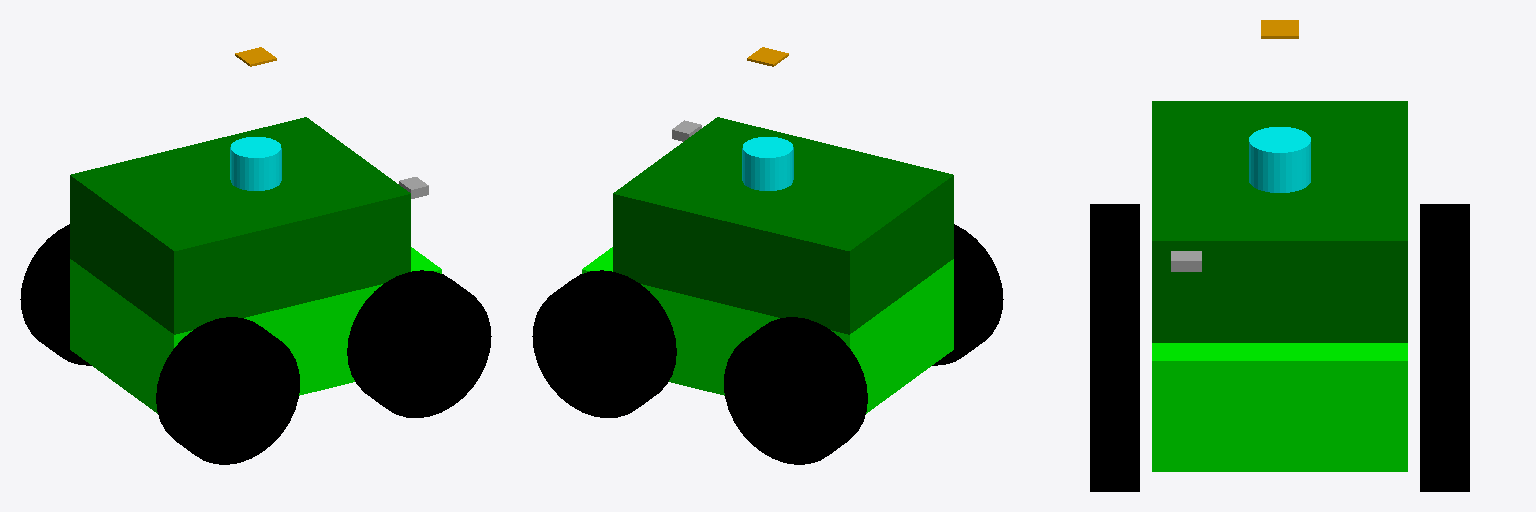
URDF robot description (sherpa):
<?xml version="1.0" encoding="utf-8"?>
<!-- =================================================================================== -->
<!-- |    This document was autogenerated by xacro from [local-path]/catkin_ws/src/sherpa_common/sherpa_description/urdf/sherpa_standalone.urdf.xacro | -->
<!-- |    EDITING THIS FILE BY HAND IS NOT RECOMMENDED                                 | -->
<!-- =================================================================================== -->
<robot name="sherpa">
  <!-- Materials -->
  <material name="black">
    <color rgba="0 0 0 255"/>
  </material>
  <material name="dark_grey">
    <color rgba="0 0 0 155 255"/>
  </material>
  <material name="blue">
    <color rgba="0 0 200 255"/>
  </material>
  <material name="green">
    <color rgba="0 200 0 255"/>
  </material>
  <material name="grey">
    <color rgba="50 50 50 255"/>
  </material>
  <material name="orange">
    <color rgba="255 108 10 255"/>
  </material>
  <material name="brown">
    <color rgba="222 207 195 255"/>
  </material>
  <material name="red">
    <color rgba="200 0 0 255"/>
  </material>
  <material name="white">
    <color rgba="255 255 255 255"/>
  </material>
  <link name="base">
    <collision>
      <origin rpy="0 0 0" xyz="0 0 0"/>
      <geometry>
        <box size="0.605 0.41 0.197"/>
      </geometry>
    </collision>
    <visual>
      <origin rpy="0 0 0" xyz="0 0 0"/>
      <geometry>
        <box size="0.605 0.41 0.197"/>
      </geometry>
      <material name="green"/>
    </visual>
  </link>
  <link name="top">
    <collision>
      <origin rpy="0 0 0" xyz="-0.07 0 0"/>
      <geometry>
        <box size="0.535 0.41 0.18"/>
      </geometry>
    </collision>
    <visual>
      <origin rpy="0 0 0" xyz="0 0 0"/>
      <geometry>
        <box size="0.535 0.41 0.18"/>
      </geometry>
      <material name="green2">
        <color rgba="0 0.5 0 0.8"/>
      </material>
    </visual>
  </link>
  <gazebo reference="top">
    <material>Gazebo/Green</material>
  </gazebo>
  <gazebo reference="base">
    <material>Gazebo/Green</material>
  </gazebo>
  <joint name="top_to_base_link" type="fixed">
    <parent link="base"/>
    <child link="top"/>
    <origin rpy="0 0 0" xyz="-0.035 0.0 0.1885"/>
  </joint>
  <!-- Fixed joint to add dummy inertia link -->
  <joint name="base_to_base_inertia" type="fixed">
    <parent link="base"/>
    <child link="base_inertia"/>
    <origin rpy="0 0 0" xyz="0 0 0"/>
  </joint>
  <!-- Dummy inertia link, because KDL cannot have inertia on the base link -->
  <link name="base_inertia">
    <inertial>
      <origin rpy="0 0 0" xyz="0 0 0"/>
      <mass value="40"/>
      <inertia ixx="0.689696666667" ixy="0" ixz="0" iyy="1.34944666667" iyz="0" izz="1.34944666667"/>
    </inertial>
  </link>
  <joint name="LF_WHEEL" type="fixed">
    <parent link="base"/>
    <child link="LF_WHEEL"/>
    <origin rpy="-1.57079632679 0 0" xyz="0.2159 0.265 -0.0185"/>
    <axis rpy="0 0 0" xyz="0 0 1"/>
    <dynamics damping="1.0" friction="0.0"/>
    <limit effort="1" velocity="1"/>
    <joint_properties damping="0.2" friction="0.2"/>
  </joint>
  <link name="LF_WHEEL">
    <collision>
      <origin rpy="0 0 0" xyz="0 0 0"/>
      <geometry>
        <cylinder length="0.008" radius="0.14"/>
      </geometry>
    </collision>
    <visual>
      <origin rpy="0 0 0" xyz="0 0 0"/>
      <geometry>
        <cylinder length="0.08" radius="0.14"/>
      </geometry>
      <material name="black"/>
    </visual>
    <inertial>
      <origin rpy="0 0 0" xyz="0 0 0"/>
      <mass value="5"/>
      <inertia ixx="0.0271666666667" ixy="0" ixz="0" iyy="0.0271666666667" iyz="0" izz="0.049"/>
    </inertial>
  </link>
  <gazebo reference="LF_WHEEL">
    <mu1 value="0.5"/>
    <mu2 value="0.5"/>
    <fdir1 value="1 0 0"/>
    <kp>10000000.0</kp>
    <kd>1.0</kd>
    <minDepth>0.005</minDepth>
    <maxVel>100.0</maxVel>
    <material>Gazebo/Black</material>
  </gazebo>
  <joint name="RF_WHEEL" type="fixed">
    <parent link="base"/>
    <child link="RF_WHEEL"/>
    <origin rpy="-1.57079632679 0 0" xyz="0.2159 -0.265 -0.0185"/>
    <axis rpy="0 0 0" xyz="0 0 1"/>
    <dynamics damping="1.0" friction="0.0"/>
    <limit effort="1" velocity="1"/>
    <joint_properties damping="0.2" friction="0.2"/>
  </joint>
  <link name="RF_WHEEL">
    <collision>
      <origin rpy="0 0 0" xyz="0 0 0"/>
      <geometry>
        <cylinder length="0.008" radius="0.14"/>
      </geometry>
    </collision>
    <visual>
      <origin rpy="0 0 0" xyz="0 0 0"/>
      <geometry>
        <cylinder length="0.08" radius="0.14"/>
      </geometry>
      <material name="black"/>
    </visual>
    <inertial>
      <origin rpy="0 0 0" xyz="0 0 0"/>
      <mass value="5"/>
      <inertia ixx="0.0271666666667" ixy="0" ixz="0" iyy="0.0271666666667" iyz="0" izz="0.049"/>
    </inertial>
  </link>
  <gazebo reference="RF_WHEEL">
    <mu1 value="0.5"/>
    <mu2 value="0.5"/>
    <fdir1 value="1 0 0"/>
    <kp>10000000.0</kp>
    <kd>1.0</kd>
    <minDepth>0.005</minDepth>
    <maxVel>100.0</maxVel>
    <material>Gazebo/Black</material>
  </gazebo>
  <joint name="LH_WHEEL" type="fixed">
    <parent link="base"/>
    <child link="LH_WHEEL"/>
    <origin rpy="-1.57079632679 0 0" xyz="-0.2159 0.265 -0.0185"/>
    <axis rpy="0 0 0" xyz="0 0 1"/>
    <dynamics damping="1.0" friction="0.0"/>
    <limit effort="1" velocity="1"/>
    <joint_properties damping="0.2" friction="0.2"/>
  </joint>
  <link name="LH_WHEEL">
    <collision>
      <origin rpy="0 0 0" xyz="0 0 0"/>
      <geometry>
        <cylinder length="0.008" radius="0.14"/>
      </geometry>
    </collision>
    <visual>
      <origin rpy="0 0 0" xyz="0 0 0"/>
      <geometry>
        <cylinder length="0.08" radius="0.14"/>
      </geometry>
      <material name="black"/>
    </visual>
    <inertial>
      <origin rpy="0 0 0" xyz="0 0 0"/>
      <mass value="5"/>
      <inertia ixx="0.0271666666667" ixy="0" ixz="0" iyy="0.0271666666667" iyz="0" izz="0.049"/>
    </inertial>
  </link>
  <gazebo reference="LH_WHEEL">
    <mu1 value="0.0"/>
    <mu2 value="0.0"/>
    <fdir1 value="1 0 0"/>
    <kp>10000000.0</kp>
    <kd>1.0</kd>
    <minDepth>0.005</minDepth>
    <maxVel>100.0</maxVel>
    <material>Gazebo/Black</material>
  </gazebo>
  <joint name="RH_WHEEL" type="fixed">
    <parent link="base"/>
    <child link="RH_WHEEL"/>
    <origin rpy="-1.57079632679 0 0" xyz="-0.2159 -0.265 -0.0185"/>
    <axis rpy="0 0 0" xyz="0 0 1"/>
    <dynamics damping="1.0" friction="0.0"/>
    <limit effort="1" velocity="1"/>
    <joint_properties damping="0.2" friction="0.2"/>
  </joint>
  <link name="RH_WHEEL">
    <collision>
      <origin rpy="0 0 0" xyz="0 0 0"/>
      <geometry>
        <cylinder length="0.008" radius="0.14"/>
      </geometry>
    </collision>
    <visual>
      <origin rpy="0 0 0" xyz="0 0 0"/>
      <geometry>
        <cylinder length="0.08" radius="0.14"/>
      </geometry>
      <material name="black"/>
    </visual>
    <inertial>
      <origin rpy="0 0 0" xyz="0 0 0"/>
      <mass value="5"/>
      <inertia ixx="0.0271666666667" ixy="0" ixz="0" iyy="0.0271666666667" iyz="0" izz="0.049"/>
    </inertial>
  </link>
  <gazebo reference="RH_WHEEL">
    <mu1 value="0.2"/>
    <mu2 value="0.2"/>
    <fdir1 value="1 0 0"/>
    <kp>10000000.0</kp>
    <kd>1.0</kd>
    <minDepth>0.005</minDepth>
    <maxVel>100.0</maxVel>
    <material>Gazebo/Black</material>
  </gazebo>
  <!-- Imu is fixed to the base link -->
  <joint name="imu_joint" type="fixed">
    <origin rpy="0 0 0" xyz="0.27 -0.15 0.26"/>
    <parent link="base"/>
    <child link="imu_link"/>
  </joint>
  <!-- Imu link -->
  <link name="imu_link">
    <inertial>
      <mass value="0.001"/>
      <origin rpy="0 0 0" xyz="0 0 0"/>
      <inertia ixx="0.0001" ixy="0" ixz="0" iyy="0.000001" iyz="0" izz="0.0001"/>
    </inertial>
    <visual>
      <origin rpy="0 0 0" xyz="0 0 0"/>
      <geometry>
        <box size="0.04 0.05 0.02"/>
      </geometry>
    </visual>
    <collision>
      <origin rpy="0 0 0" xyz="0 0 0"/>
      <geometry>
        <box size=".001 .001 .001"/>
      </geometry>
    </collision>
    <material name="orange">
      <color rgba="255 108 10 255"/>
    </material>
  </link>
  <gazebo reference="imu_link">
    <material>Gazebo/Orange</material>
  </gazebo>
  <gazebo reference="imu_joint">
    <disableFixedJointLumping>true</disableFixedJointLumping>
  </gazebo>
  <!-- Gps is fixed to the base link -->
  <joint name="gps_joint" type="fixed">
    <origin rpy="0 0 0" xyz="0 0 0.545"/>
    <parent link="base"/>
    <child link="gps_link"/>
  </joint>
  <!-- Gps link -->
  <link name="gps_link">
    <inertial>
      <mass value="0.001"/>
      <origin rpy="0 0 0" xyz="0 0 0"/>
      <inertia ixx="0.0001" ixy="0" ixz="0" iyy="0.000001" iyz="0" izz="0.0001"/>
    </inertial>
    <visual>
      <origin rpy="0 0 0" xyz="0 0 0"/>
      <geometry>
        <box size="0.06 0.06 0.005"/>
      </geometry>
    </visual>
    <collision>
      <origin rpy="0 0 0" xyz="0 0 0"/>
      <geometry>
        <box size=".001 .001 .001"/>
      </geometry>
    </collision>
    <material name="grey_dark2">
      <color rgba="0.8 0.8 0.8 1.0"/>
    </material>
  </link>
  <gazebo reference="gps_link">
    <material>Gazebo/DarkGrey</material>
  </gazebo>
  <gazebo reference="gps_joint">
    <disableFixedJointLumping>true</disableFixedJointLumping>
  </gazebo>
  <link name="rslidar">
    <inertial>
      <mass value="0.01"/>
      <origin xyz="0 0 0"/>
      <inertia ixx="1e-7" ixy="0" ixz="0" iyy="1e-7" iyz="0" izz="1e-7"/>
    </inertial>
    <visual>
      <origin rpy="0 0 0" xyz="0 0 0"/>
      <geometry>
        <cylinder length="0.08" radius="0.05"/>
      </geometry>
      <material name="Cyan">
        <color rgba="0 1.0 1.0 1.0"/>
      </material>
    </visual>
  </link>
  <joint name="base_to_rslidar" type="fixed">
    <parent link="base"/>
    <child link="rslidar"/>
    <origin rpy="0 0 4.71238" xyz="0 0 0.31"/>
  </joint>
</robot>

--- Render facts (derived) ---
Views: 3 orthographic renders of the robot side by side, from view 1: azimuth 30°, elevation 25°; view 2: azimuth 150°, elevation 25°; view 3: azimuth 270°, elevation 25°.
Robot: sherpa — 10 links, 9 joints (9 fixed); root link base; default pose: every joint at zero.
Visible links, largest first — view 1: top, RH_WHEEL, RF_WHEEL, base, LH_WHEEL, rslidar; view 2: top, LH_WHEEL, LF_WHEEL, base, RH_WHEEL, rslidar; view 3: top, base, LF_WHEEL, RF_WHEEL, LH_WHEEL, RH_WHEEL, rslidar, gps_link, imu_link.
Link boxes in pixels (x1,y1,x2,y2): top: (70,117,410,334); RH_WHEEL: (156,317,299,464); RF_WHEEL: (347,270,491,417); base: (70,247,441,413); LH_WHEEL: (20,224,91,365); rslidar: (230,137,281,190); top: (613,117,953,334); LH_WHEEL: (724,317,867,464); LF_WHEEL: (532,270,676,417); base: (582,247,953,413); RH_WHEEL: (932,224,1003,365); rslidar: (742,137,793,190); top: (1152,101,1407,342); base: (1152,343,1407,471); LF_WHEEL: (1420,317,1469,491); RF_WHEEL: (1090,317,1139,491); LH_WHEEL: (1420,204,1469,316); RH_WHEEL: (1090,204,1139,316); rslidar: (1249,127,1310,192); gps_link: (1261,20,1298,38); imu_link: (1171,251,1201,271).
Size in the robot's own frame: 0.7118 by 0.61 by 0.706 metres.
Geometry: primitives only (box / cylinder / sphere), no mesh files.